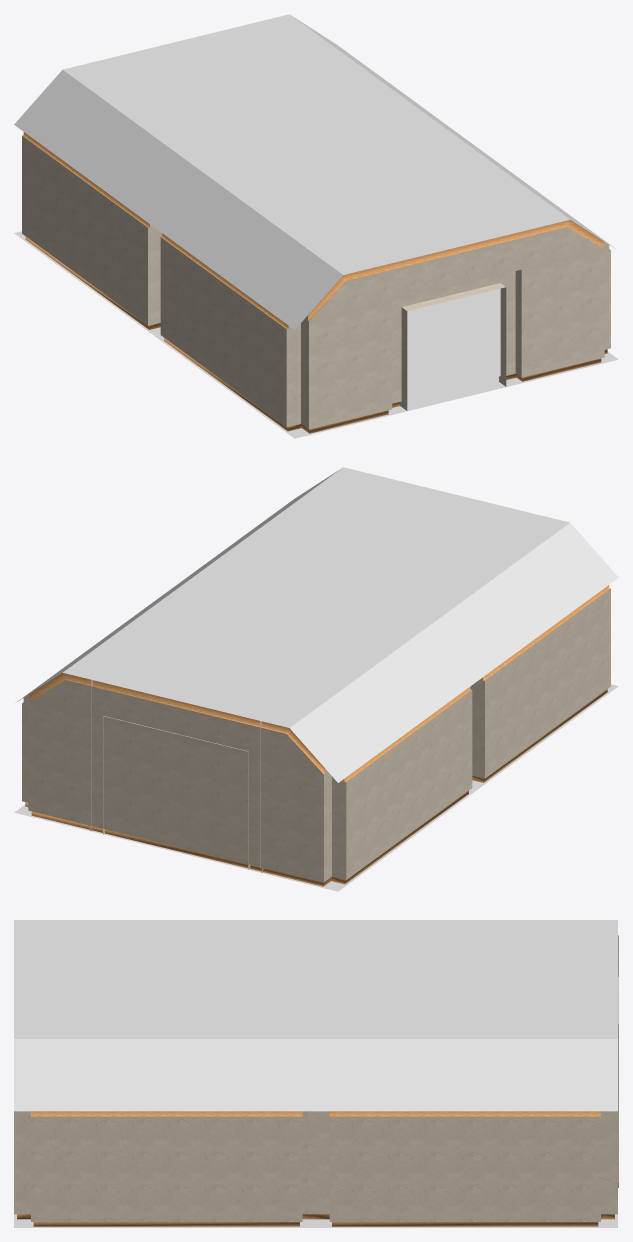
File: room_export.fbx
3 renders of one model, top to bottom at view 1: azimuth 30°, elevation 25°; view 2: azimuth 150°, elevation 25°; view 3: azimuth 270°, elevation 25°, orthographic. The views are drawn at different scales.
Parts seen in each view (by area): view 1: top, wall02_con, ground, wall01_wood; view 2: top, wall02_con, wall01_wood, ground, guild_couter01; view 3: top, wall02_con, wall01_wood, ground.
Boxes of the visible parts, left/top/right/bottom form: top: left=14, top=14, right=615, bottom=329; wall02_con: left=22, top=136, right=610, bottom=429; ground: left=14, top=231, right=618, bottom=438; wall01_wood: left=22, top=132, right=610, bottom=433; top: left=17, top=467, right=618, bottom=782; wall02_con: left=22, top=589, right=610, bottom=882; wall01_wood: left=22, top=585, right=610, bottom=886; ground: left=14, top=684, right=618, bottom=891; guild_couter01: left=91, top=680, right=261, bottom=869; top: left=14, top=920, right=617, bottom=1111; wall02_con: left=14, top=1111, right=617, bottom=1221; wall01_wood: left=17, top=1111, right=614, bottom=1226; ground: left=14, top=1214, right=617, bottom=1227.
Size of the model in its own units: 5000 by 2833 by 7510.
